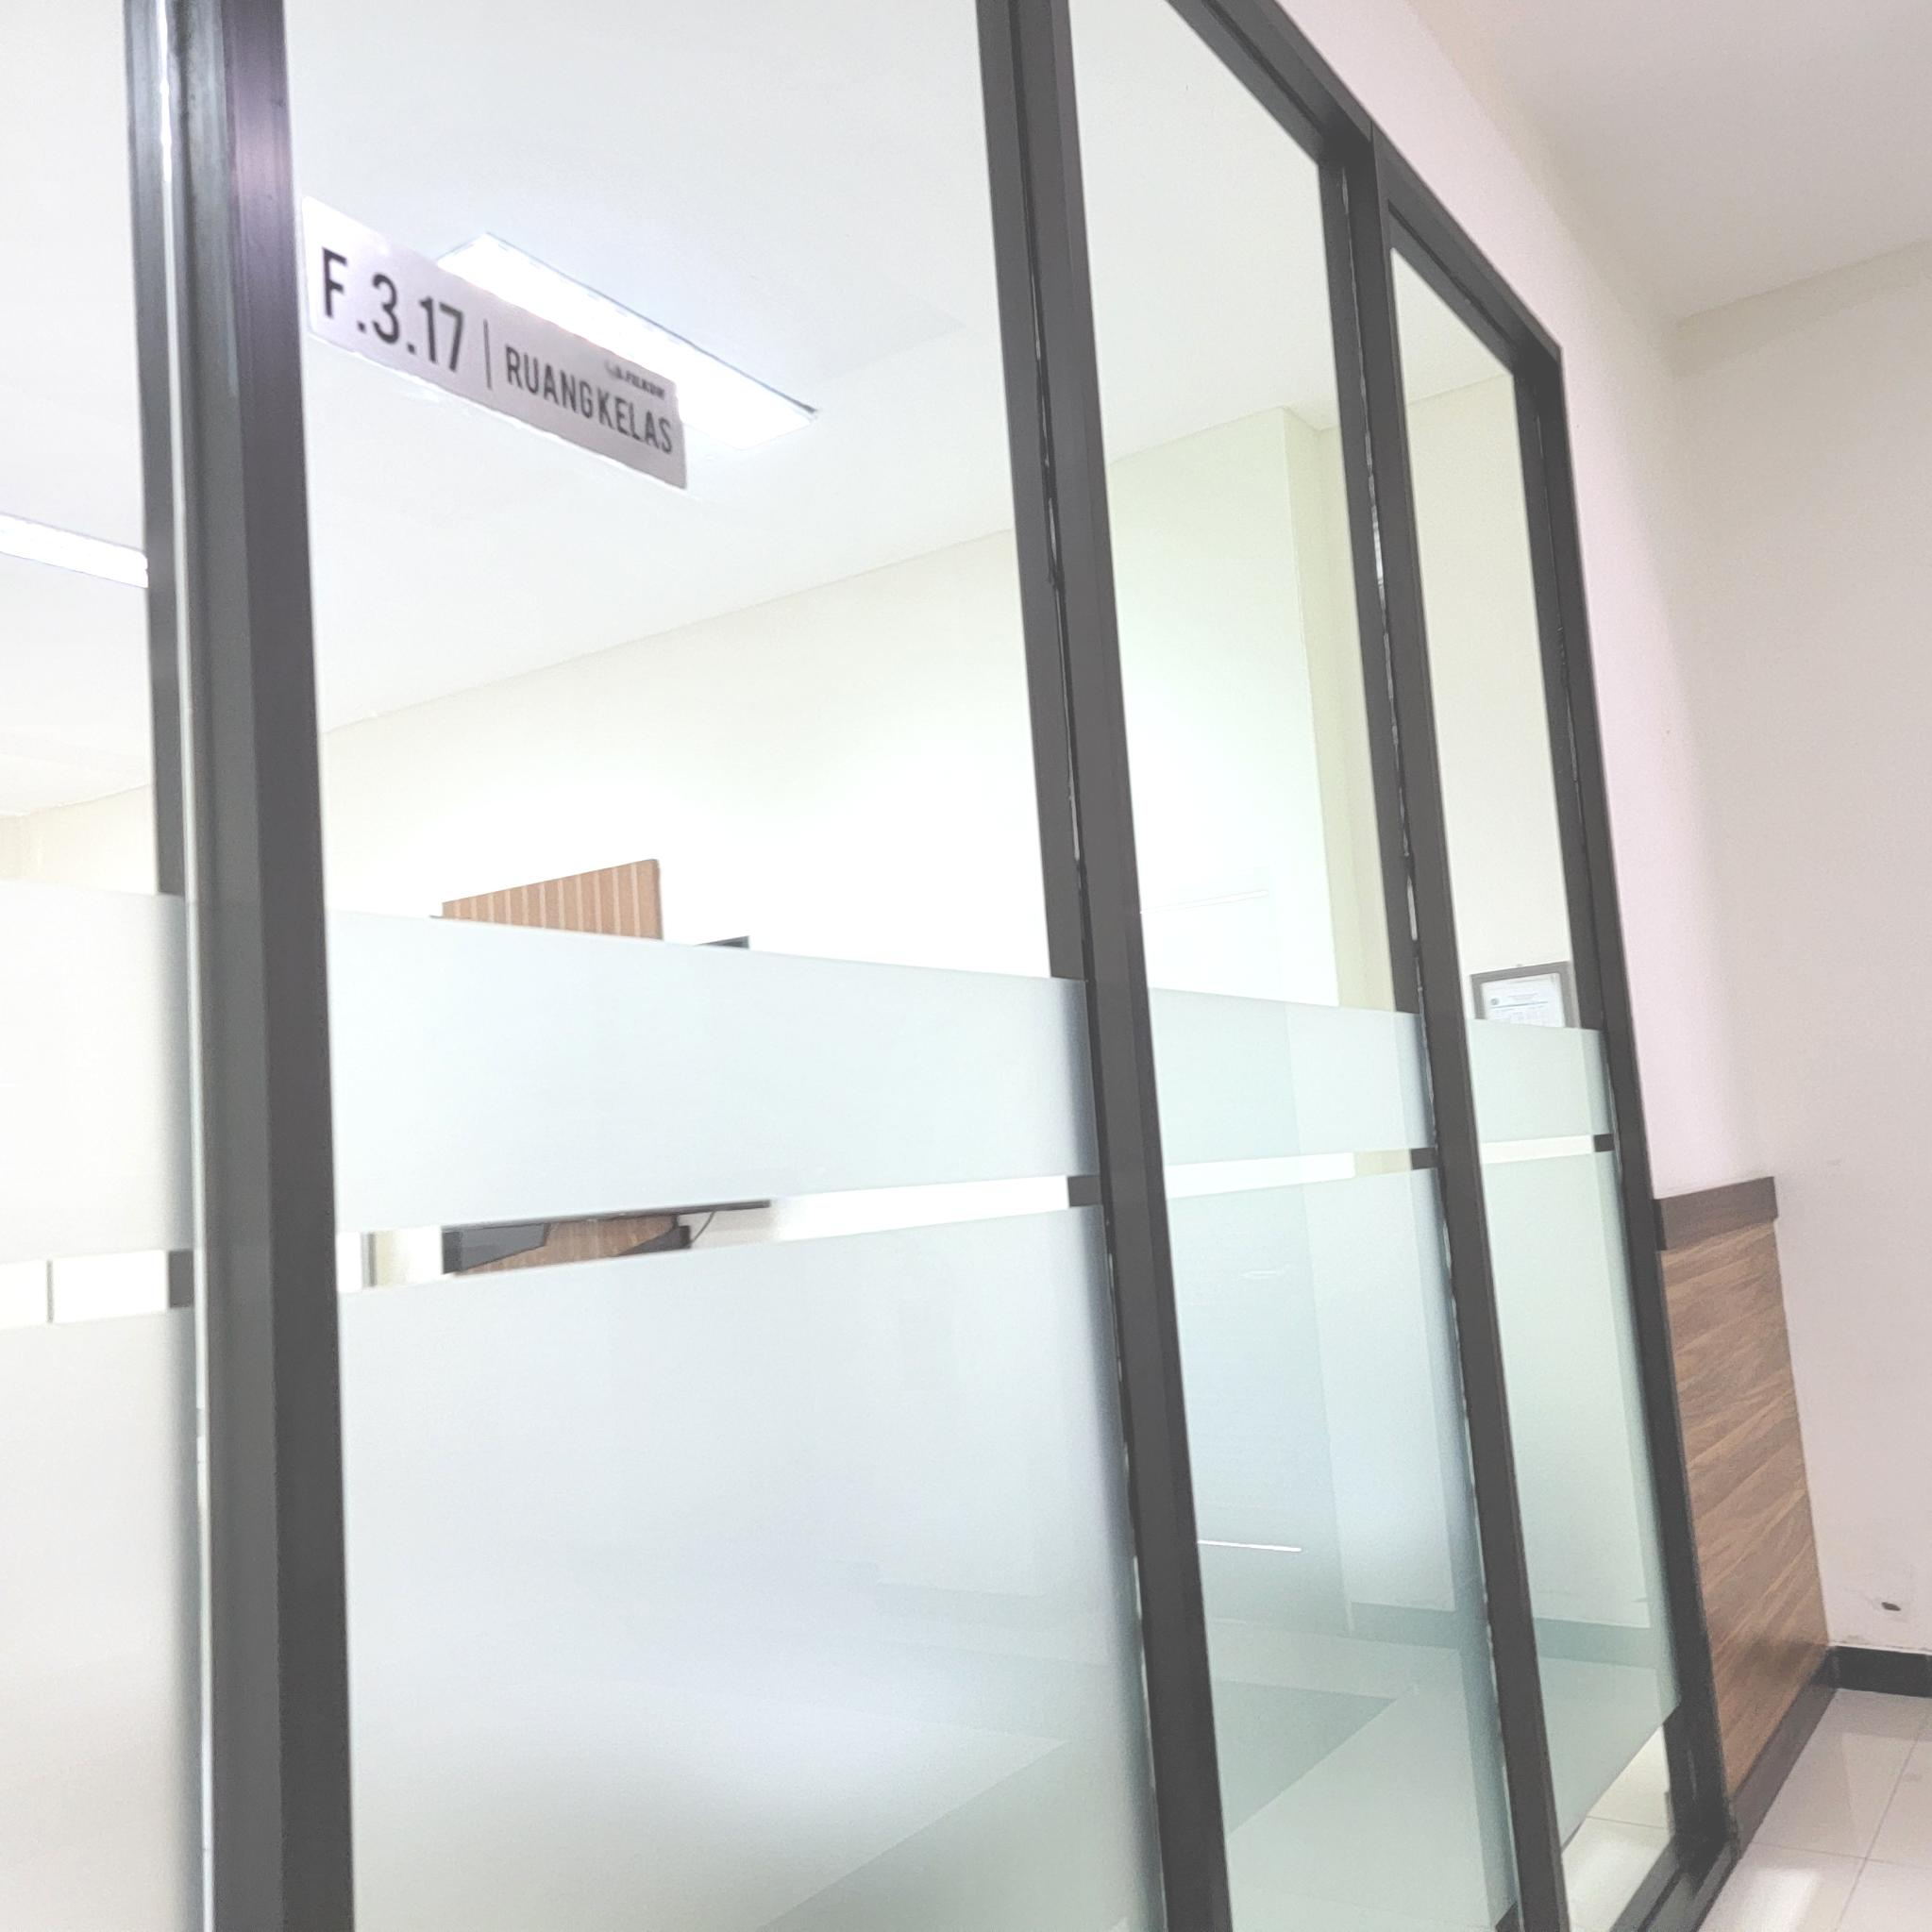plate: (304, 193, 688, 495)
